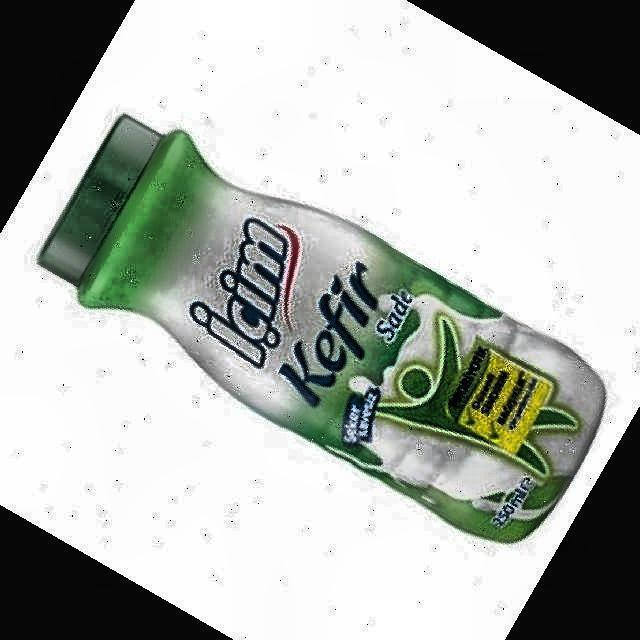plastic: (38, 115, 605, 542)
